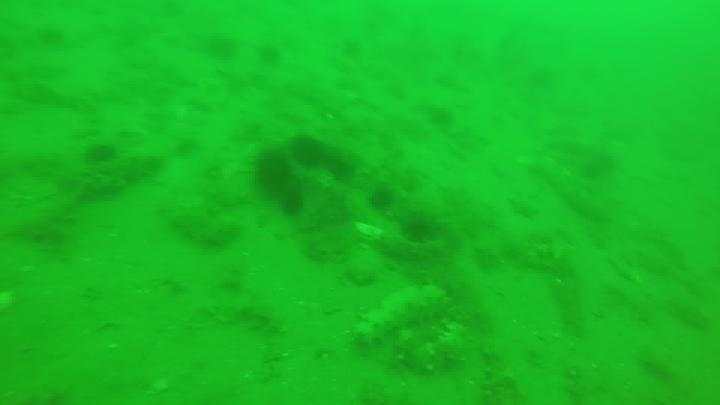echinus: (251, 149, 295, 197), (288, 135, 328, 171), (400, 214, 438, 246), (202, 32, 239, 63), (277, 188, 307, 219), (367, 185, 396, 213), (255, 42, 284, 68)
holothurian: (350, 285, 453, 348), (399, 316, 472, 377), (478, 343, 521, 405)
scallop: (352, 220, 385, 243)
